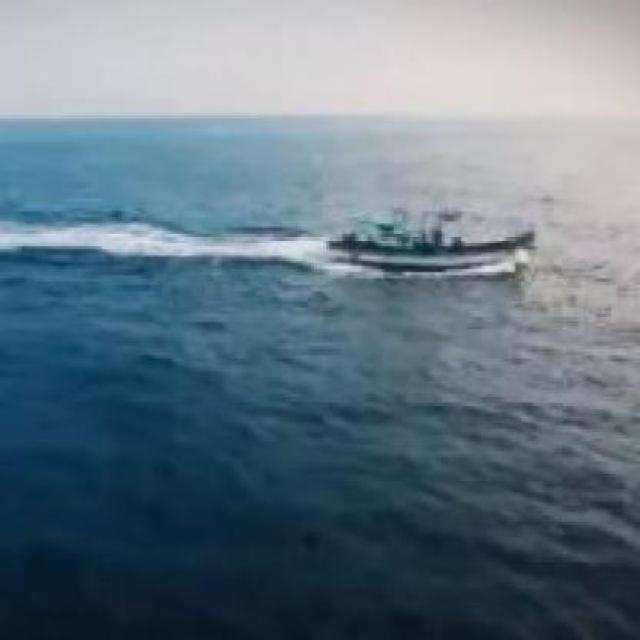fish-b: (327, 194, 546, 277)
